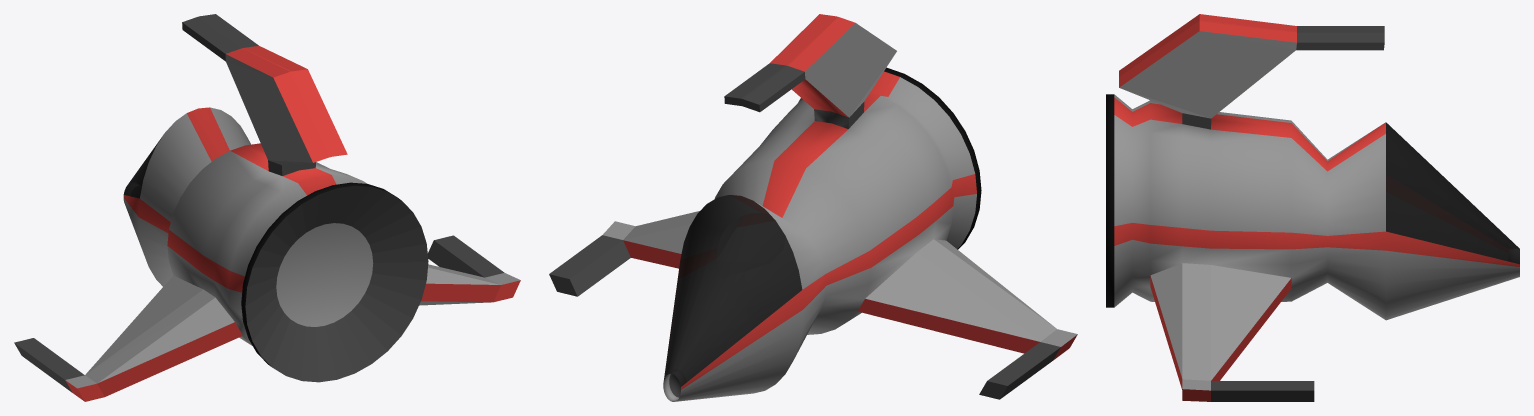
The model's file is zynaps_ship.fbx.
3 renders of one model, left to right at view 1: azimuth 30°, elevation 25°; view 2: azimuth 150°, elevation 25°; view 3: azimuth 270°, elevation 25°, orthographic. The views are drawn at different scales.
Parts seen in each view (by area): view 1: Cylinder; view 2: Cylinder; view 3: Cylinder.
Boxes of the visible parts, x1=… form: Cylinder: x1=14, y1=14, x2=520, y2=401; Cylinder: x1=549, y1=14, x2=1077, y2=401; Cylinder: x1=1106, y1=14, x2=1519, y2=401.
Size of the model in its own units: 627 by 395 by 501.
